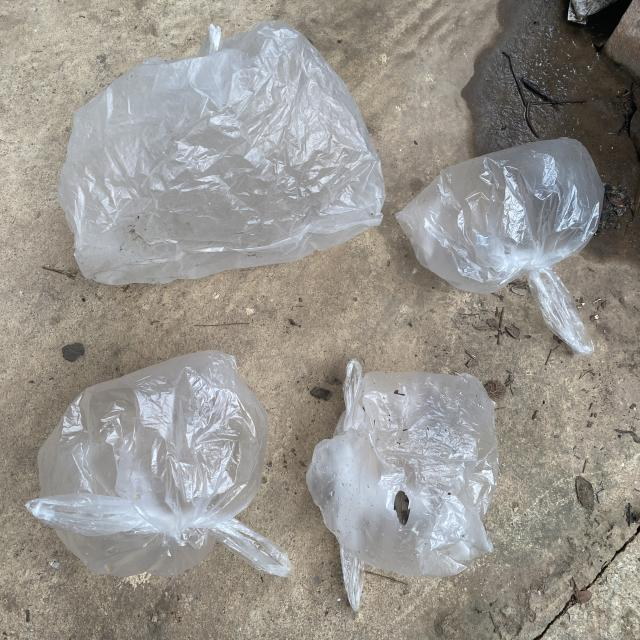Single-layer Plastic: (58, 21, 385, 285), (26, 350, 291, 576), (306, 360, 499, 609), (396, 138, 604, 355)
